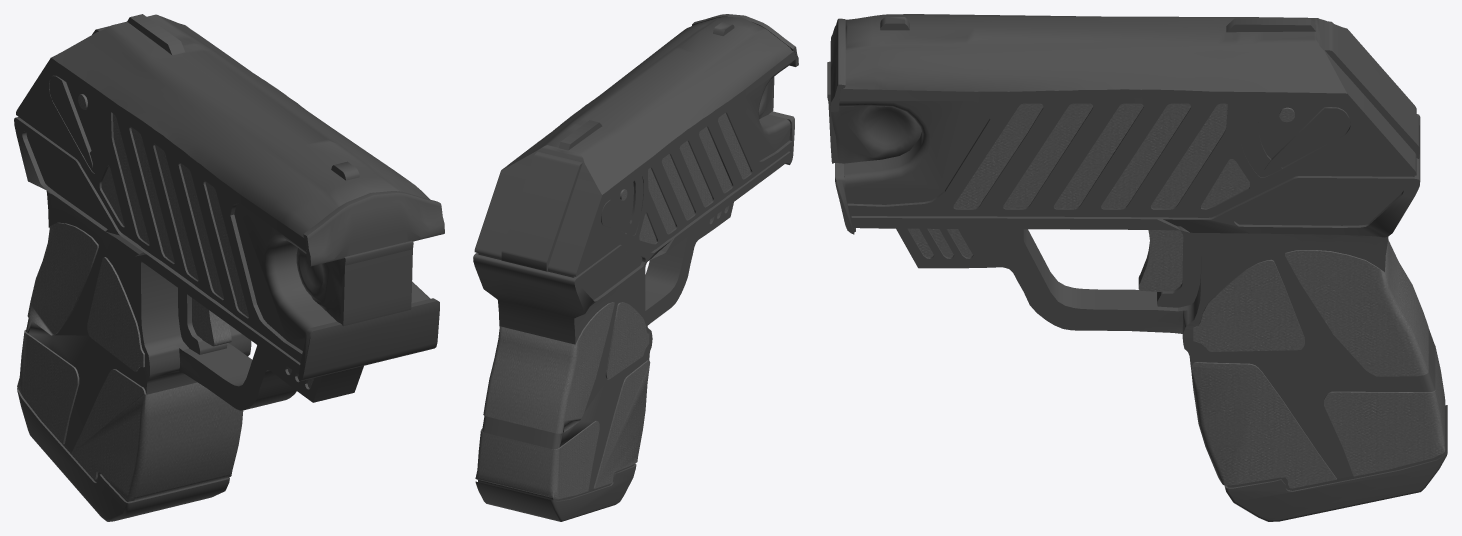
Rendered from taser6.fbx.
3 views of the same model, side by side, from view 1: azimuth 30°, elevation 25°; view 2: azimuth 150°, elevation 25°; view 3: azimuth 270°, elevation 25° (orthographic). The views are drawn at different scales.
Visible parts, largest first — view 1: Plane.001; view 2: Plane.001; view 3: Plane.001.
Part boxes in pixels (left/top/right/bottom): Plane.001: left=14, top=14, right=444, bottom=521; Plane.001: left=473, top=14, right=798, bottom=521; Plane.001: left=827, top=14, right=1447, bottom=521.
Size of the model in its own units: 16.8 by 57.26 by 67.43.
Materials: 3 (1 with a texture image).
